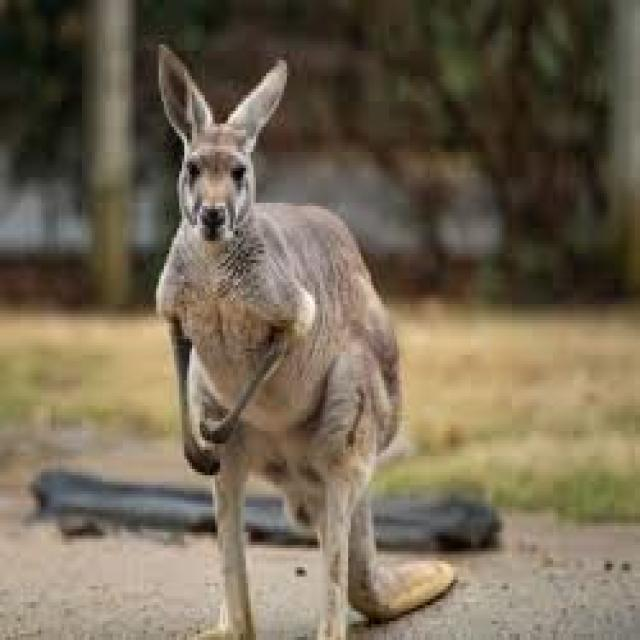Kangaroo: (138, 24, 468, 636)
